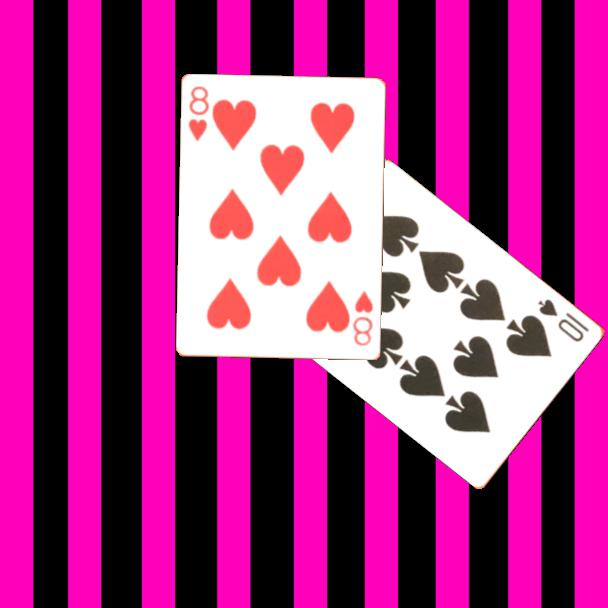h08: (349, 287, 376, 349), (185, 83, 212, 144)
s10: (534, 295, 592, 345)
